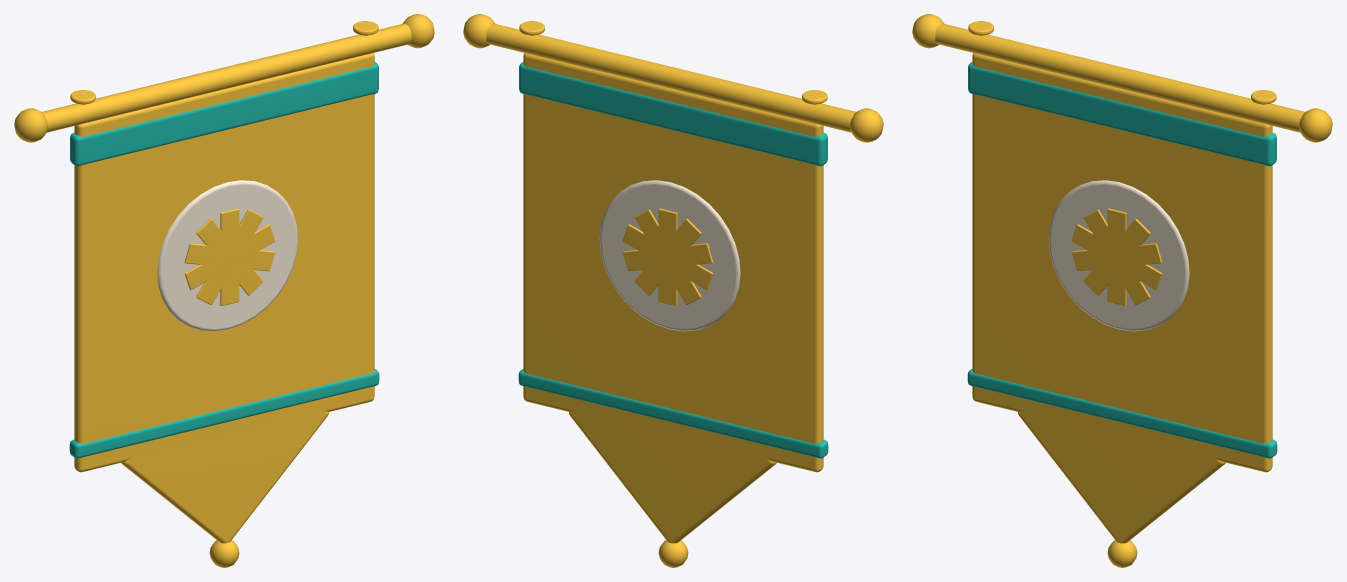
The model's file is BannerYellow.fbx.
3 renders of one model, left to right at view 1: azimuth 30°, elevation 25°; view 2: azimuth 150°, elevation 25°; view 3: azimuth 330°, elevation 25°, orthographic.
Parts seen in each view (by area): view 1: BannerYellow mesh; view 2: BannerYellow mesh; view 3: BannerYellow mesh.
Part boxes in pixels (x1,y1,x2,y2): BannerYellow mesh: (14, 14, 434, 567); BannerYellow mesh: (463, 14, 883, 567); BannerYellow mesh: (912, 14, 1332, 567).
Size of the model in its own units: 1.12 by 1.3 by 0.08.
